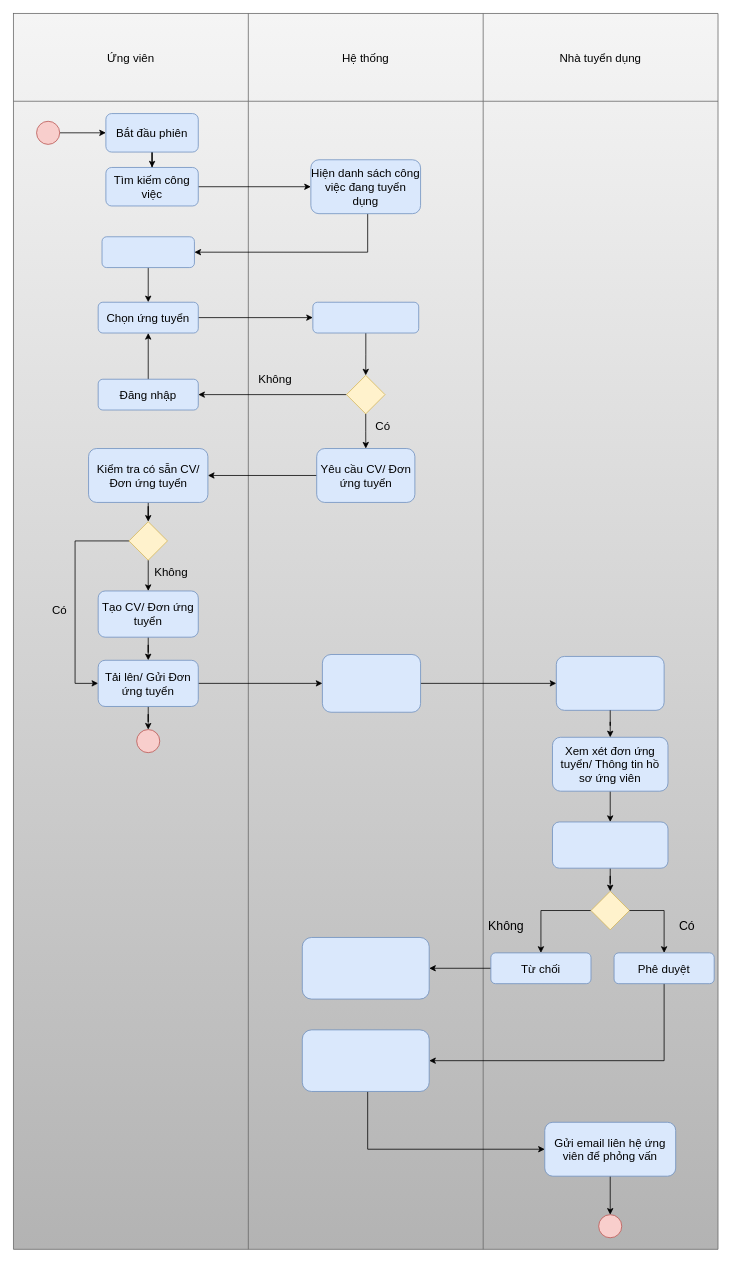
This 732x1263 diagram has some shape labels left out. The shapes that lost their labels are listed below. From the top down, each one's centre as x and y in pixels, then its label:
At point (147, 252): "Chọn công việc".
At point (365, 317): "Kiểm tra đăng nhập".
At point (371, 683): "Lưu lại đơn ứng tuyển/ Thông báo thành công".
At point (610, 683): "Nhận đơn ứng tuyển".
At point (610, 844): "Quyết định phê duyệt".
At point (365, 968): "Đổi trạng thái đơn ứng tuyển thành bị từ chối".
At point (365, 1060): "Đổi trạng thái đơn ứng tuyển thành được phê duyệt".
